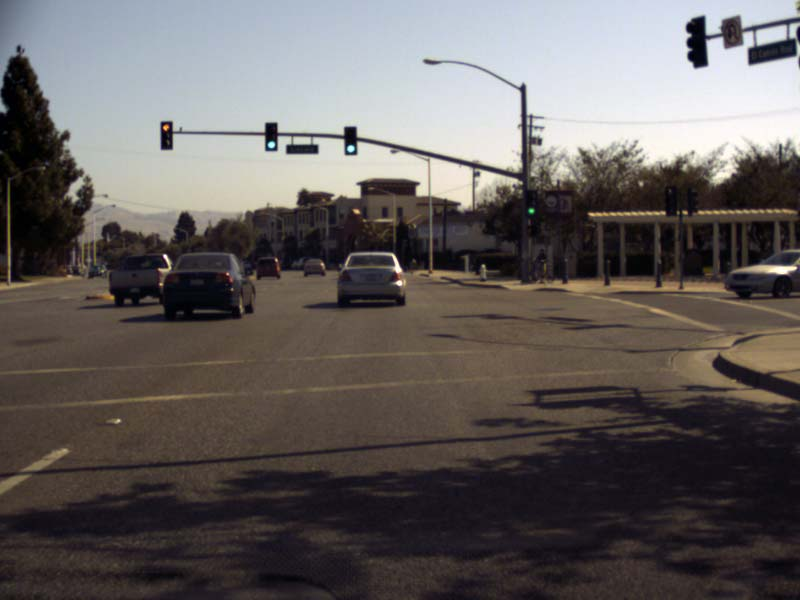Green: (265, 123, 276, 150), (344, 127, 355, 154), (525, 190, 536, 216)
Red: (160, 122, 172, 149)
